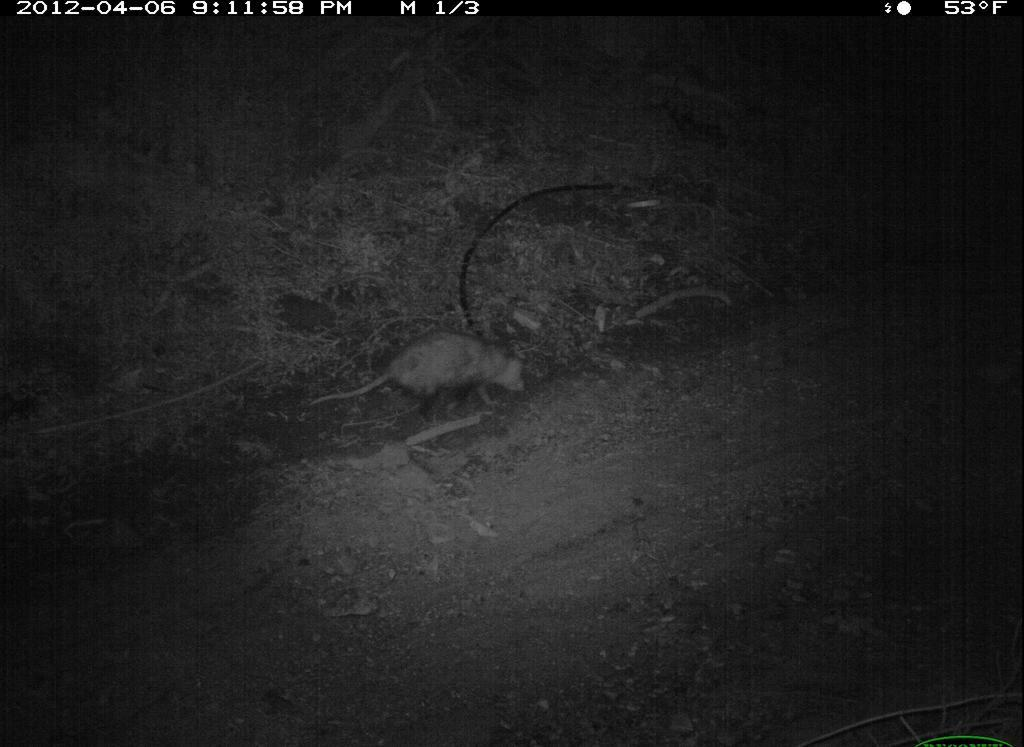opossum: (315, 324, 566, 437)
